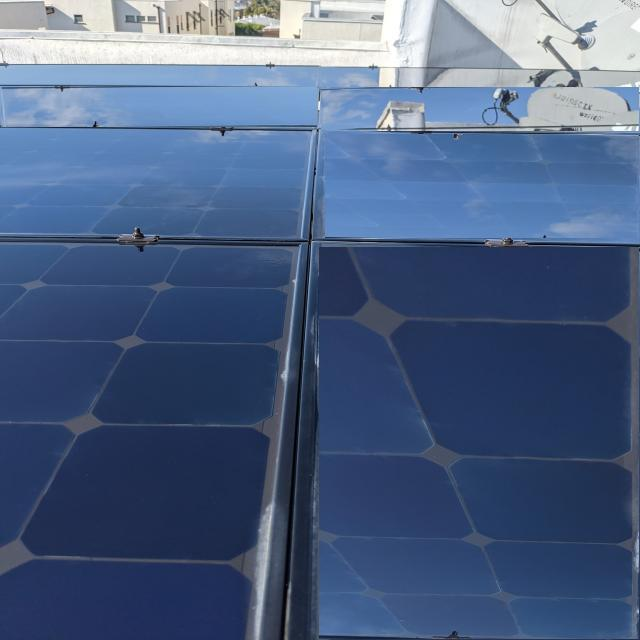Non Defective: (319, 247, 640, 640), (0, 249, 300, 640), (0, 126, 310, 236), (325, 135, 640, 238), (321, 87, 639, 131), (1, 86, 317, 127)
